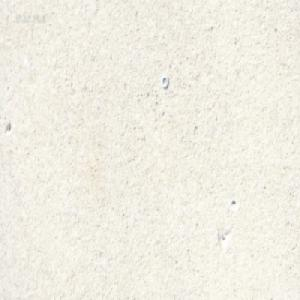Washer: (161, 74, 168, 88)
